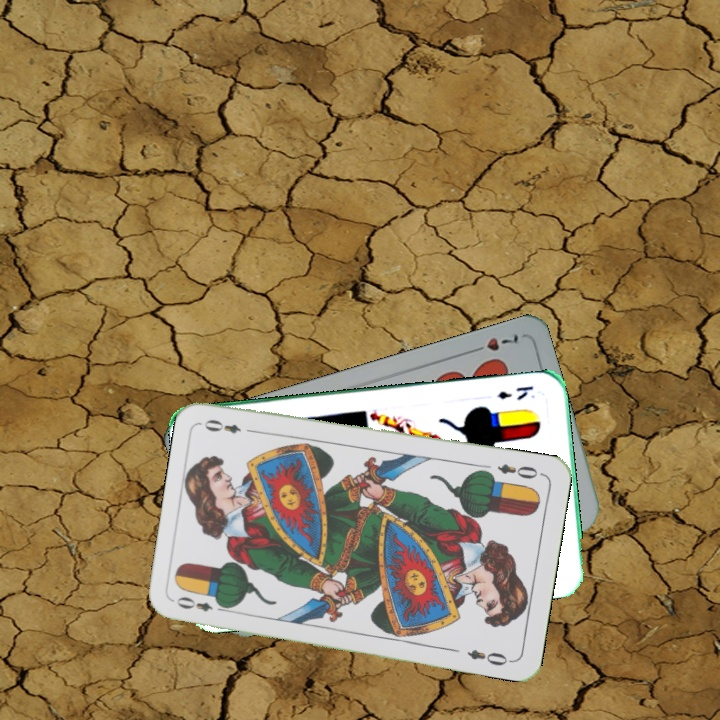EK: (494, 382, 536, 403)
EO: (173, 592, 230, 615), (493, 459, 545, 482)
H7: (466, 330, 521, 356)
